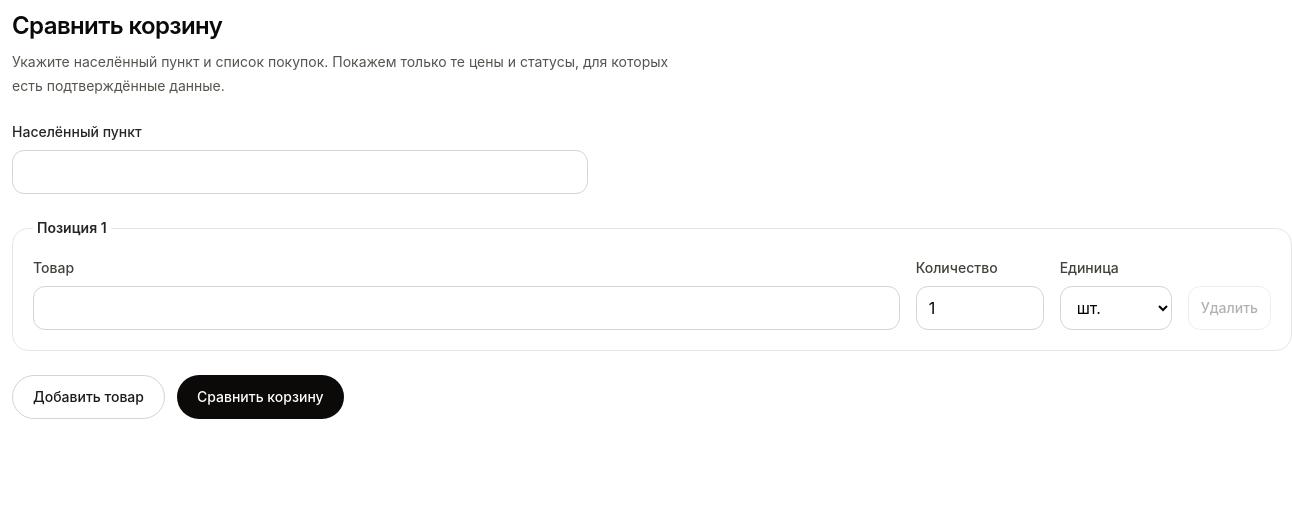
comparison preview form › shows client validation errors accessibly before making a request
The image size is (1292, 518).
Click the button "Сравнить корзину". click: [260, 397]
box: [177,375,344,419]
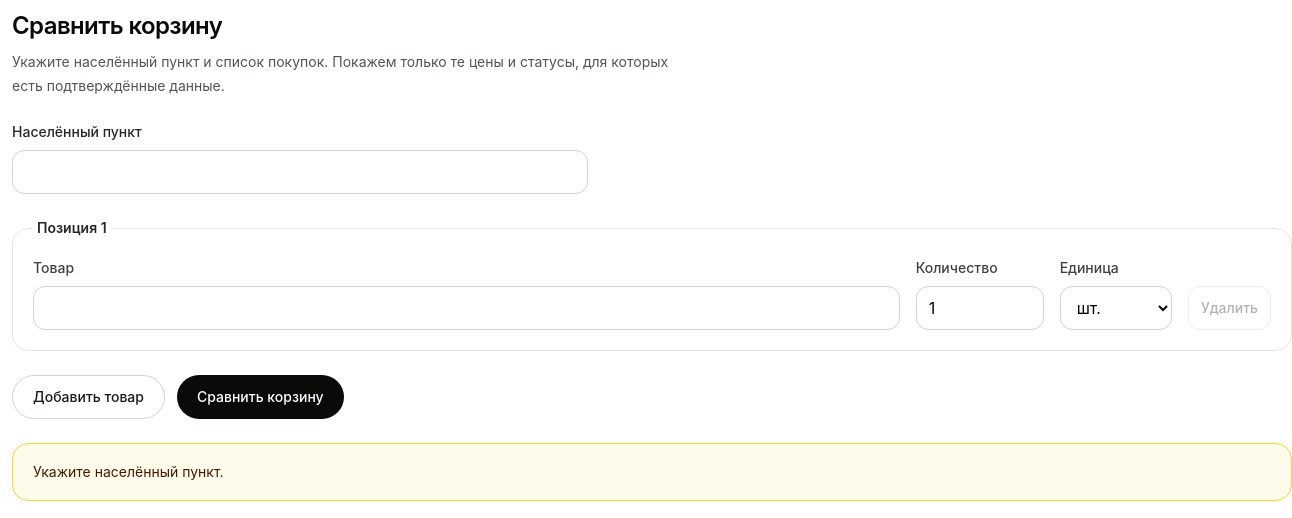
Check: the message shows "Укажите населённый пункт", box [33,463,224,480]
